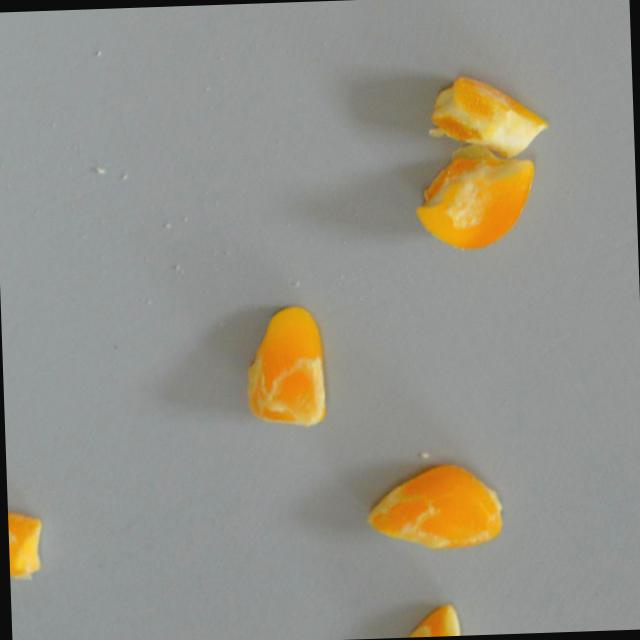pelicula: (426, 117, 535, 268), (386, 434, 485, 585), (434, 54, 532, 178), (246, 298, 335, 433), (5, 473, 43, 621)
